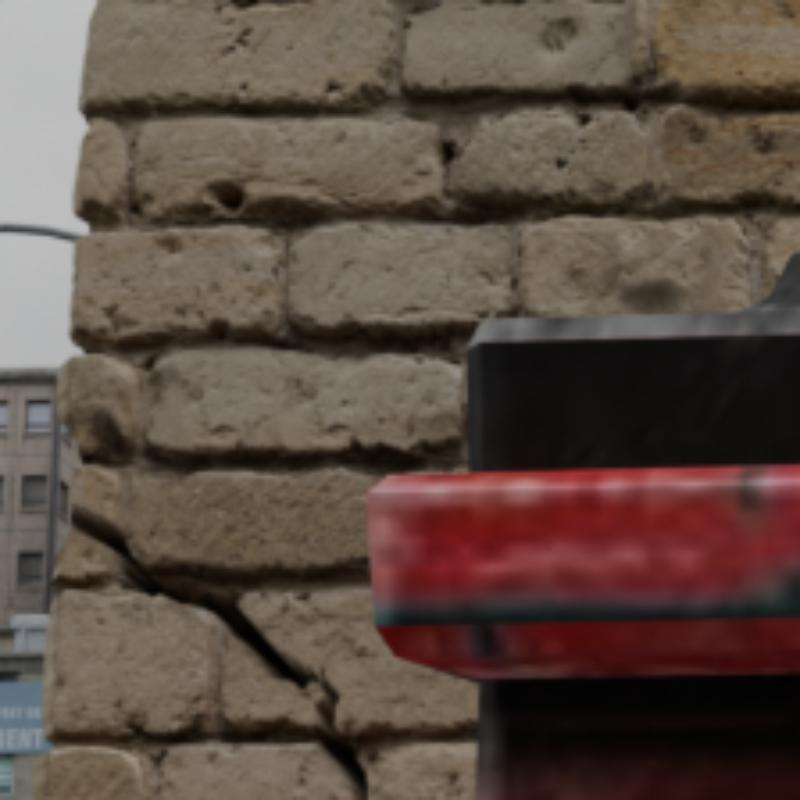pothole: (71, 504, 364, 796)
